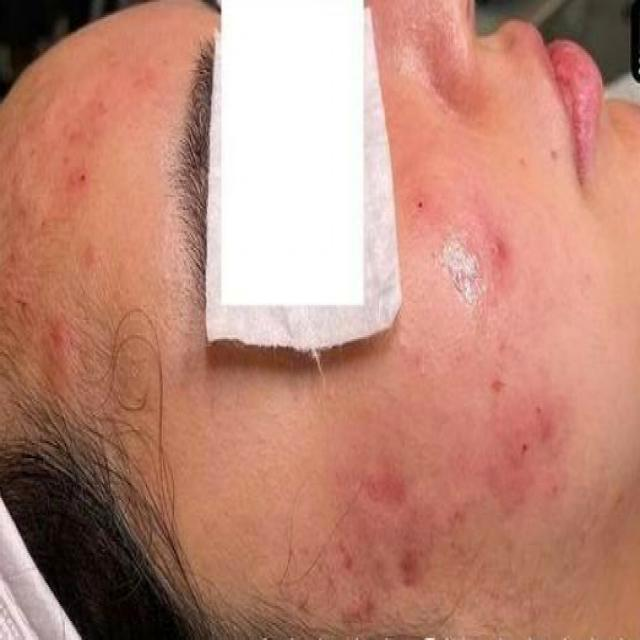Pimples: (328, 458, 404, 517), (483, 204, 520, 305), (379, 544, 442, 592)
